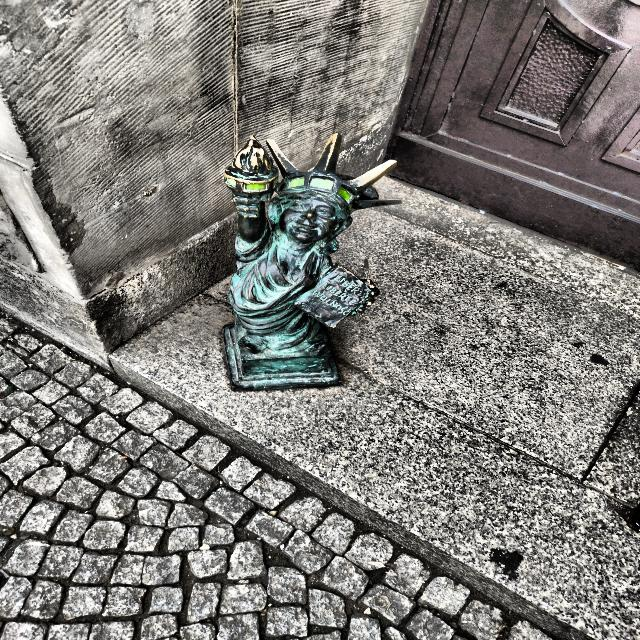LadyWolnosc: (223, 134, 400, 390)
